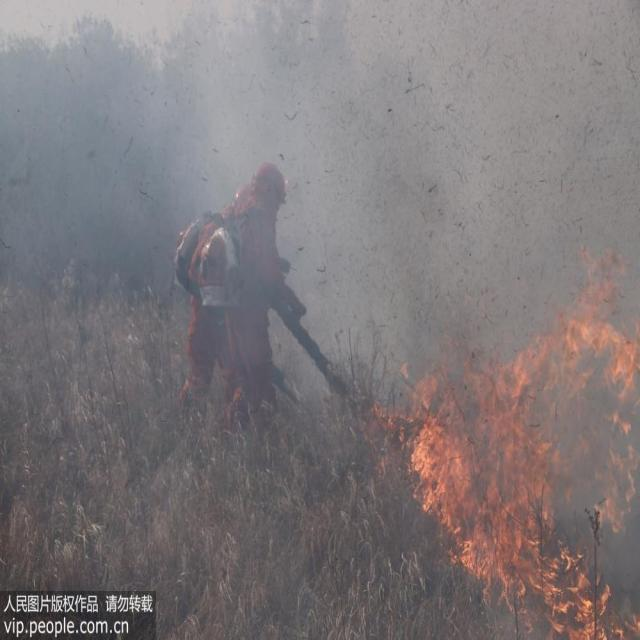Fire: (373, 251, 640, 640)
Smoke: (0, 0, 640, 607)
